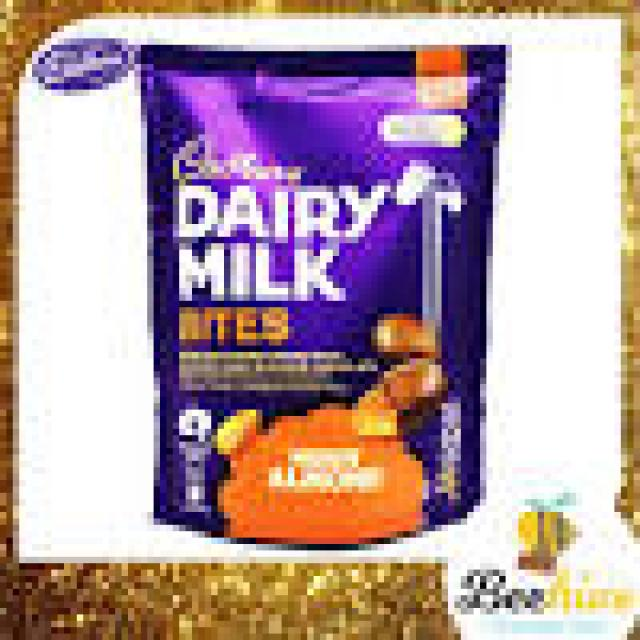cadbury: (85, 22, 537, 568)
